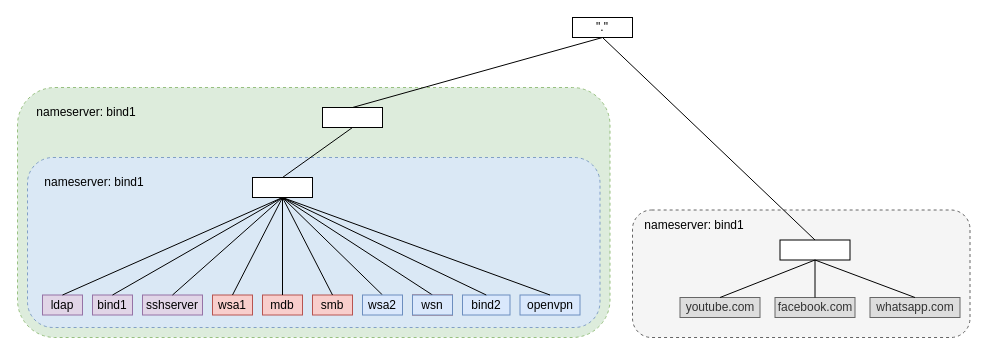
The diagram is 988 pixels wide and 355 high, and some of its shapes have lost their labels. The shapes that lost their labels are listed below. From the top down, each one's centre as x and y in pixels, then its label:
(352,117): .it
(282,187): .theboys
(814,249): blocked
